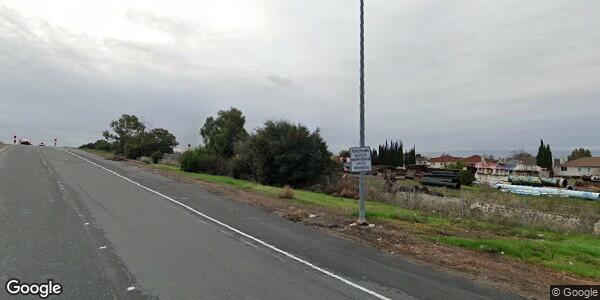Steel_Pole: (345, 1, 378, 230)
